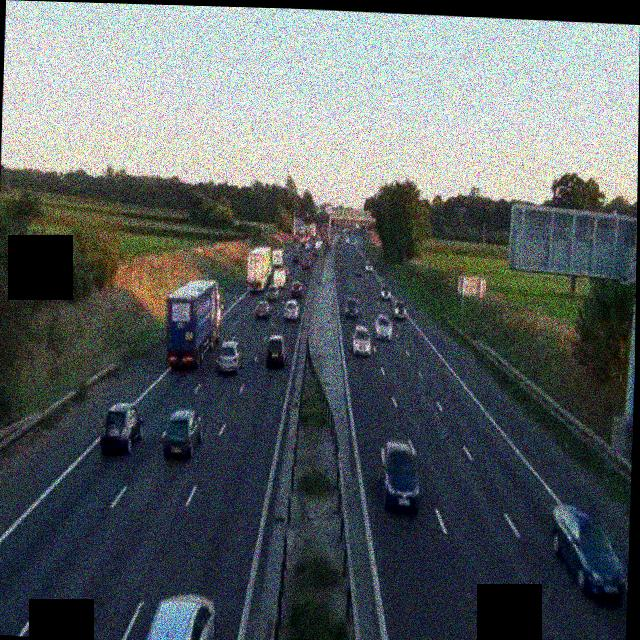car: (547, 503, 627, 600), (136, 592, 216, 640), (378, 438, 420, 513), (99, 401, 143, 455), (161, 407, 203, 459), (217, 339, 243, 373), (265, 333, 287, 368), (351, 325, 370, 356), (374, 312, 393, 341), (256, 296, 271, 317), (344, 297, 359, 318), (284, 298, 298, 320), (392, 299, 405, 321), (289, 278, 303, 298), (375, 280, 387, 299), (369, 266, 378, 279), (354, 262, 363, 274), (303, 257, 311, 270)
truck: (163, 277, 222, 368), (247, 245, 274, 292), (270, 266, 287, 294)
